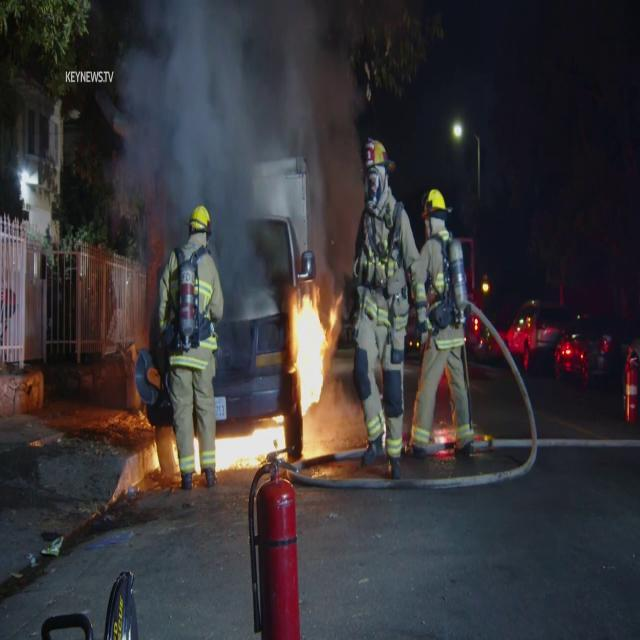Fire: (288, 278, 334, 422), (212, 408, 290, 478)
Smoke: (110, 1, 367, 268)
